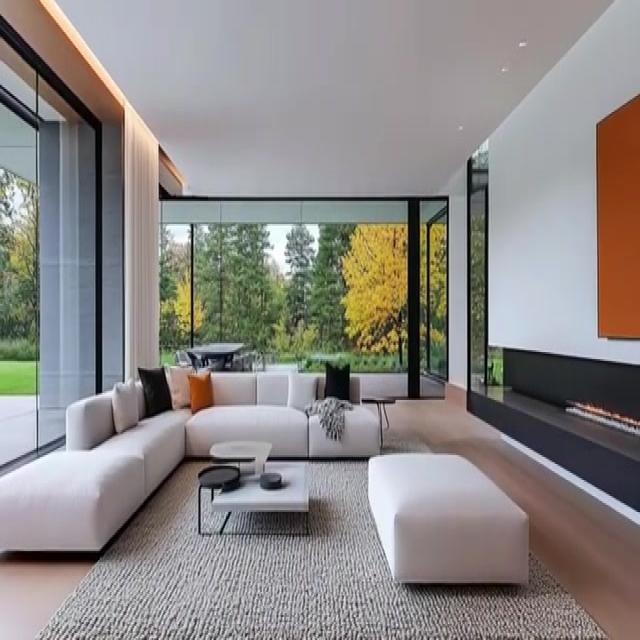obstacle: (0, 364, 380, 558)
